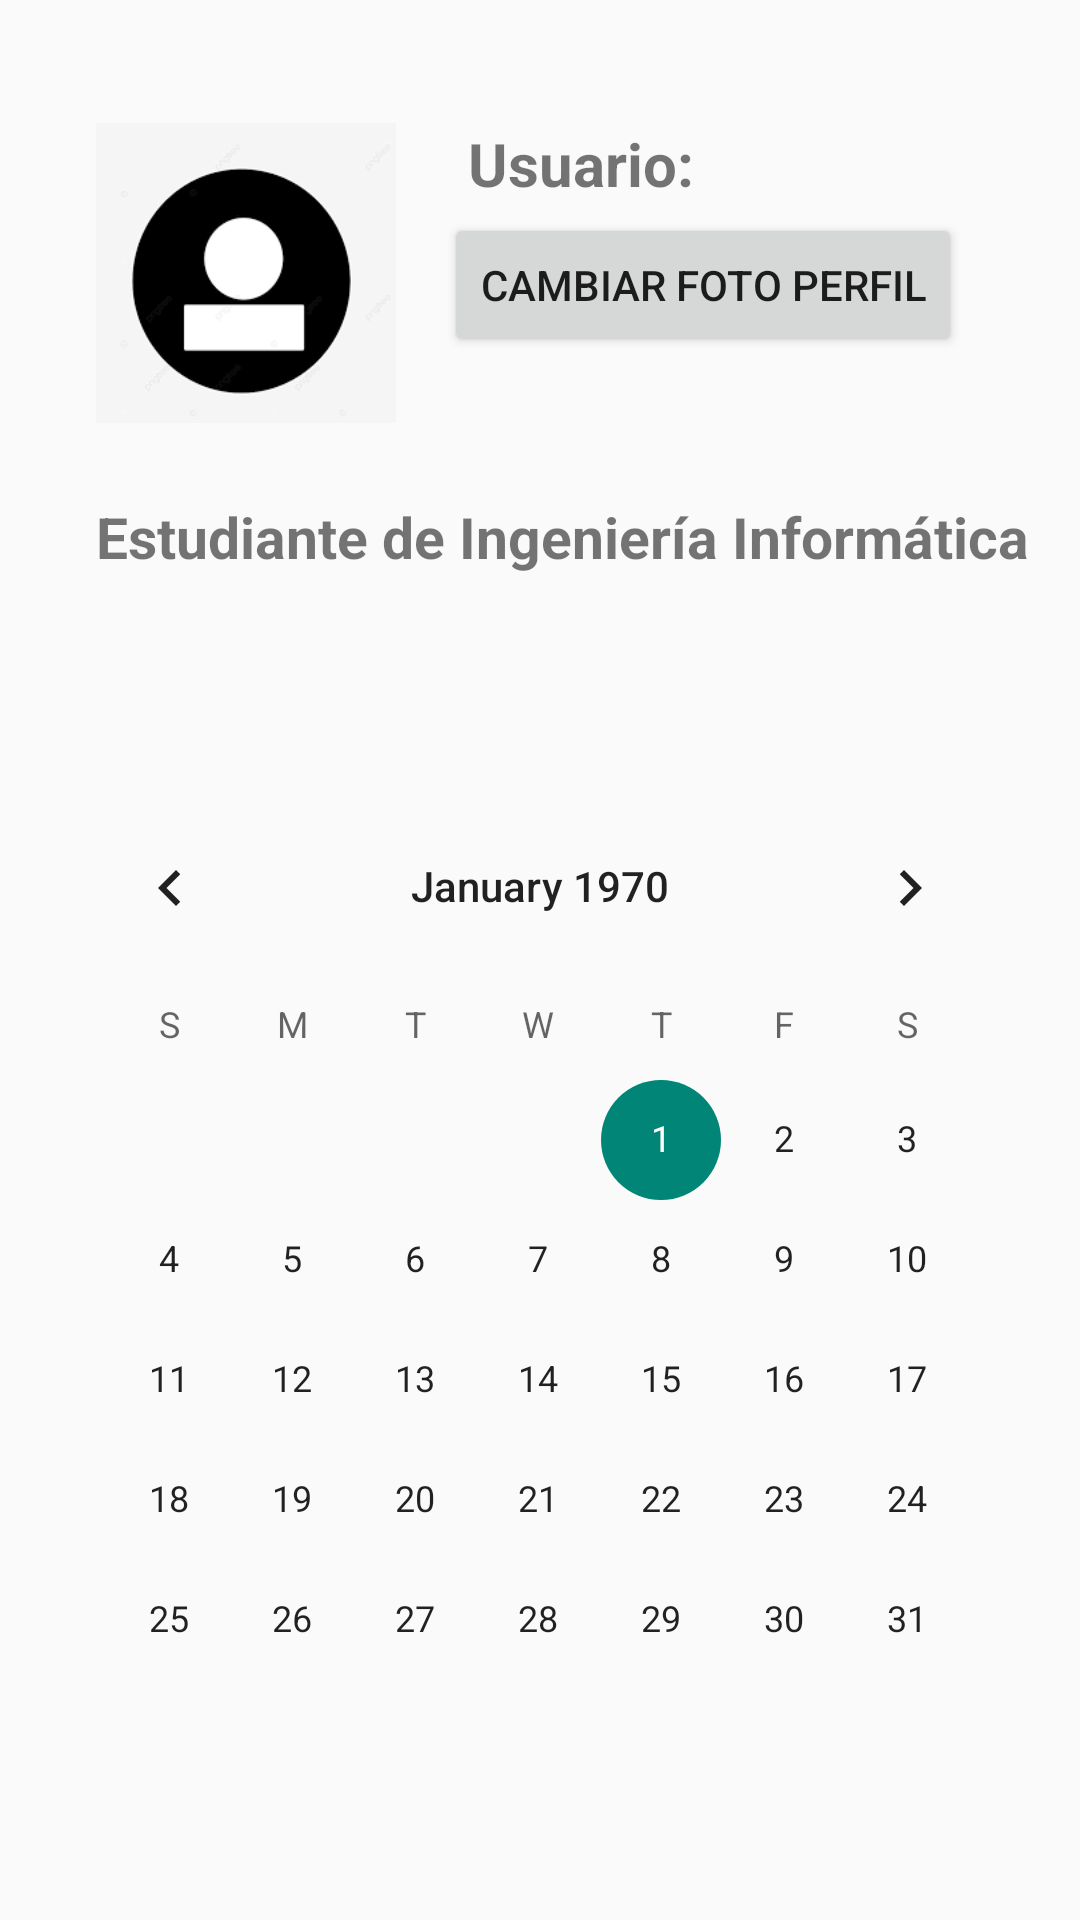

Icons on this 1080px×1920px Android screen, each with the point to tap as (x=x, y=y):
Foto de perfil: (x=241, y=281)
